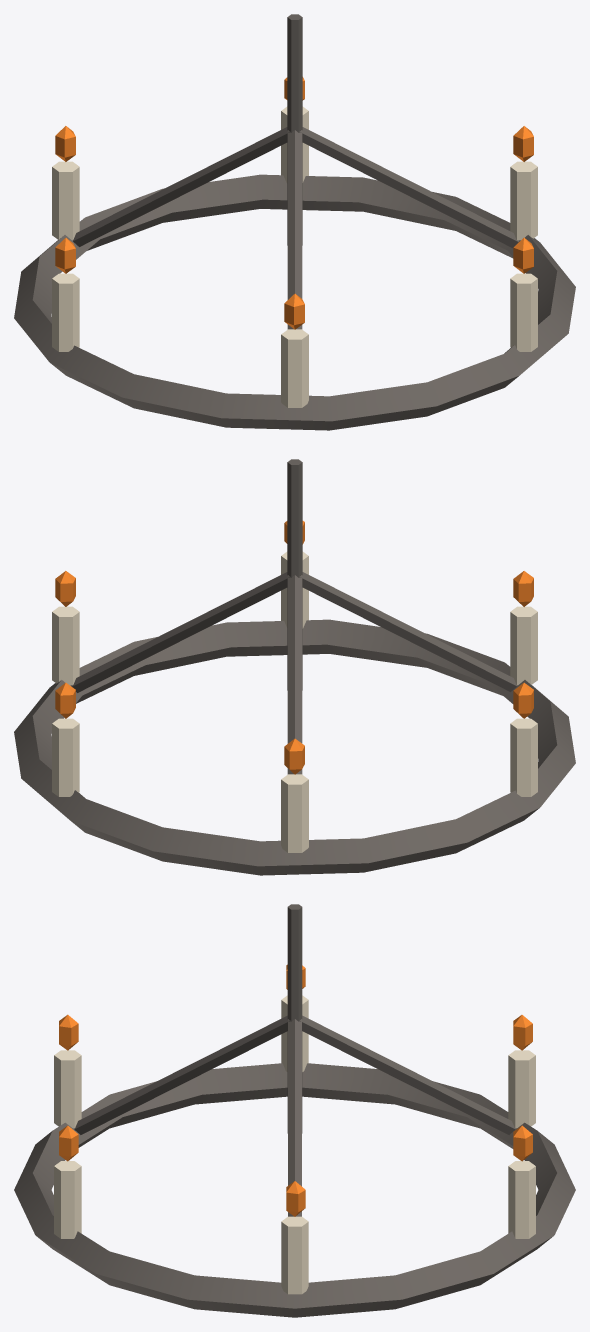
The model's file is PR_Tier_DemirAvize.fbx.
3 views of the same model, one above another, from view 1: azimuth 30°, elevation 25°; view 2: azimuth 150°, elevation 25°; view 3: azimuth 270°, elevation 25° (orthographic).
Parts seen in each view (by area): view 1: PR_Tier_DemirAvize; view 2: PR_Tier_DemirAvize; view 3: PR_Tier_DemirAvize.
Part boxes in pixels (x1,y1,x2,y2): PR_Tier_DemirAvize: (14, 14, 575, 430); PR_Tier_DemirAvize: (14, 459, 575, 875); PR_Tier_DemirAvize: (14, 904, 575, 1317).
Bounding box in the file's own units: 0.9 × 0.53 × 0.9.
1 material, 1 textured.
